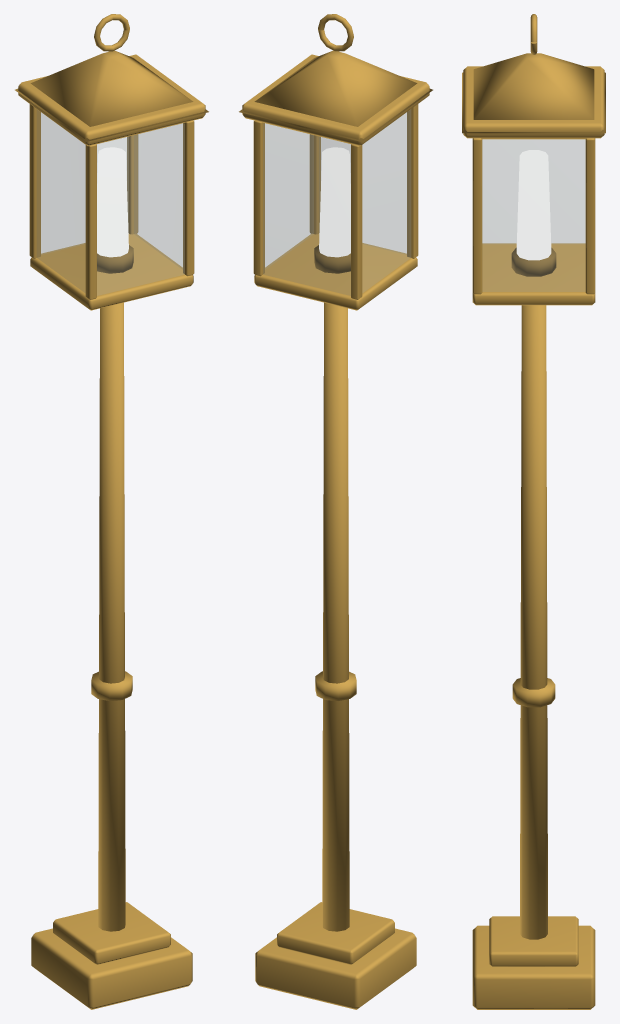
Rendered from rooftop_lantern.glb.
The picture shows the model from 3 angles, left to right: view 1: azimuth 30°, elevation 25°; view 2: azimuth 150°, elevation 25°; view 3: azimuth 270°, elevation 25°; orthographic projection.
Parts seen in each view (by area): view 1: Pole, Pane0, Roof, Foot, Pane2, Pane3, LanternBase, Pane1, FootStep, Cap, LanternGlow, LanternPost1-1 (+6 smaller); view 2: Pole, Pane1, Roof, Foot, Pane2, Pane3, LanternBase, Pane0, FootStep, Cap, LanternGlow, LanternPost11 (+6 smaller); view 3: Pole, Pane3, Roof, Pane2, Foot, LanternBase, FootStep, Cap, LanternGlow, LanternPost1-1, LanternPost11, PoleCollar (+1 smaller).
Part boxes in pixels (left/top/right/bottom): Pole: left=98, top=302, right=125, bottom=931; Pane0: left=97, top=123, right=184, bottom=295; Roof: left=15, top=50, right=208, bottom=141; Foot: left=31, top=928, right=192, bottom=1009; Pane2: left=37, top=110, right=85, bottom=292; Pane3: left=134, top=124, right=182, bottom=268; LanternBase: left=30, top=233, right=193, bottom=310; Pane1: left=41, top=113, right=128, bottom=254; FootStep: left=53, top=902, right=170, bottom=964; Cap: left=18, top=54, right=205, bottom=145; LanternGlow: left=97, top=147, right=128, bottom=257; LanternPost1-1: left=183, top=120, right=194, bottom=276; Pole: left=322, top=302, right=349, bottom=931; Pane1: left=263, top=123, right=350, bottom=295; Roof: left=239, top=50, right=432, bottom=141; Foot: left=255, top=928, right=416, bottom=1009; Pane2: left=362, top=110, right=410, bottom=292; Pane3: left=265, top=124, right=313, bottom=268; LanternBase: left=254, top=233, right=417, bottom=310; Pane0: left=319, top=113, right=406, bottom=254; FootStep: left=277, top=902, right=394, bottom=964; Cap: left=242, top=54, right=429, bottom=145; LanternGlow: left=319, top=147, right=350, bottom=257; LanternPost11: left=253, top=120, right=264, bottom=276; Pole: left=520, top=305, right=547, bottom=939; Pane3: left=482, top=139, right=585, bottom=291; Roof: left=462, top=53, right=605, bottom=133; Pane2: left=483, top=140, right=584, bottom=243; Foot: left=472, top=925, right=595, bottom=1009; LanternBase: left=472, top=243, right=595, bottom=305; FootStep: left=489, top=916, right=578, bottom=966; Cap: left=463, top=66, right=604, bottom=138; LanternGlow: left=516, top=150, right=551, bottom=260; LanternPost1-1: left=472, top=138, right=482, bottom=294; LanternPost11: left=585, top=138, right=595, bottom=294; PoleCollar: left=512, top=678, right=555, bottom=707.
Bounding box in the file's own units: 0.1808 × 1.35 × 0.1808.
